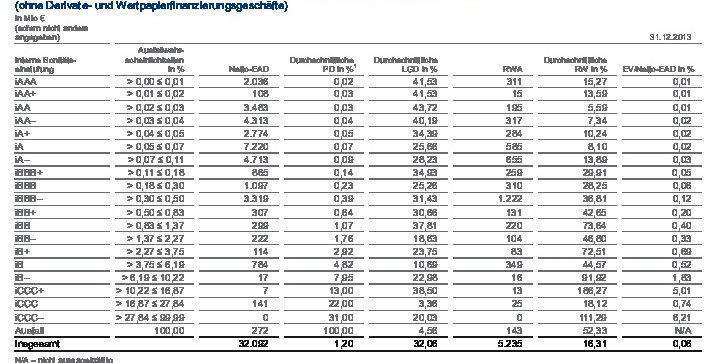table: (0, 0, 726, 363)
